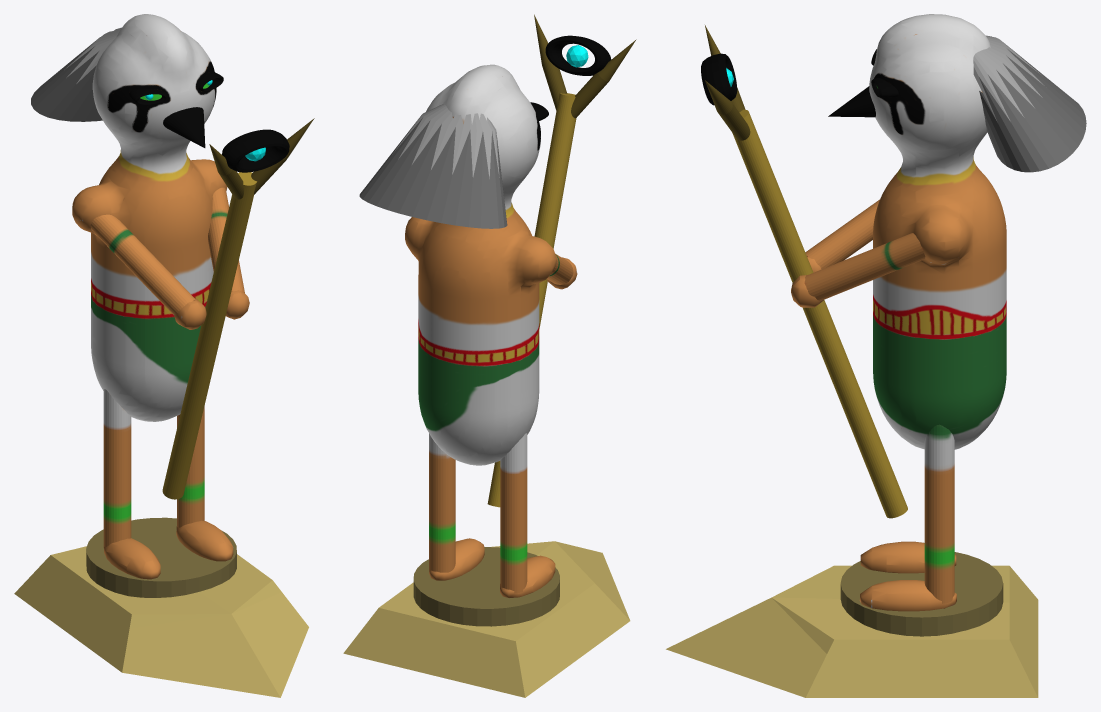
Rendered from Horus_AI.fbx.
The picture shows the model from 3 angles, left to right: view 1: azimuth 30°, elevation 25°; view 2: azimuth 150°, elevation 25°; view 3: azimuth 270°, elevation 25°; orthographic projection. The views are drawn at different scales.
Parts seen in each view (by area): view 1: Mball.000, Kubus, Cylinder.005, Cylinder, Cylinder.001, Kegel.001, Cylinder.003, Torus.004, Cylinder.002, Cylinder.004, Kegel, Cylinder.006 (+1 smaller); view 2: Mball.000, Kubus, Kegel.001, Cylinder, Cylinder.001, Cylinder.005, Cylinder.002, Torus.004, Cylinder.006, Cylinder.007, Cylinder.003; view 3: Mball.000, Kubus, Kegel.001, Cylinder.005, Cylinder, Cylinder.002, Cylinder.004, Cylinder.003, Torus.004, Cylinder.007, Kegel.
Part boxes in pixels (x1=…): Mball.000: x1=72, y1=14, x2=249, y2=579; Kubus: x1=14, y1=546, x2=308, y2=697; Cylinder.005: x1=162, y1=172, x2=257, y2=499; Cylinder: x1=86, y1=517, x2=236, y2=597; Cylinder.001: x1=103, y1=389, x2=131, y2=547; Kegel.001: x1=31, y1=27, x2=121, y2=121; Cylinder.003: x1=90, y1=214, x2=194, y2=314; Torus.004: x1=222, y1=129, x2=289, y2=172; Cylinder.002: x1=177, y1=406, x2=204, y2=527; Cylinder.004: x1=208, y1=187, x2=244, y2=292; Kegel: x1=163, y1=107, x2=205, y2=147; Cylinder.006: x1=209, y1=144, x2=243, y2=199; Mball.000: x1=405, y1=64, x2=577, y2=597; Kubus: x1=343, y1=541, x2=630, y2=697; Kegel.001: x1=359, y1=104, x2=507, y2=228; Cylinder: x1=413, y1=547, x2=559, y2=626; Cylinder.001: x1=500, y1=433, x2=527, y2=593; Cylinder.005: x1=487, y1=93, x2=576, y2=507; Cylinder.002: x1=429, y1=433, x2=455, y2=572; Torus.004: x1=545, y1=35, x2=611, y2=75; Cylinder.006: x1=571, y1=39, x2=636, y2=118; Cylinder.007: x1=534, y1=14, x2=567, y2=110; Cylinder.003: x1=547, y1=254, x2=573, y2=284; Mball.000: x1=791, y1=14, x2=1006, y2=611; Kubus: x1=666, y1=565, x2=1038, y2=697; Kegel.001: x1=973, y1=35, x2=1086, y2=172; Cylinder.005: x1=732, y1=109, x2=907, y2=518; Cylinder: x1=840, y1=552, x2=1003, y2=636; Cylinder.002: x1=924, y1=424, x2=954, y2=603; Cylinder.004: x1=804, y1=233, x2=925, y2=300; Cylinder.003: x1=805, y1=199, x2=879, y2=269; Torus.004: x1=701, y1=53, x2=737, y2=105; Cylinder.007: x1=705, y1=80, x2=750, y2=140; Kegel: x1=828, y1=86, x2=875, y2=117.
Size of the model in its own units: 400 by 1199 by 724.
Materials: 14 (3 with a texture image).
